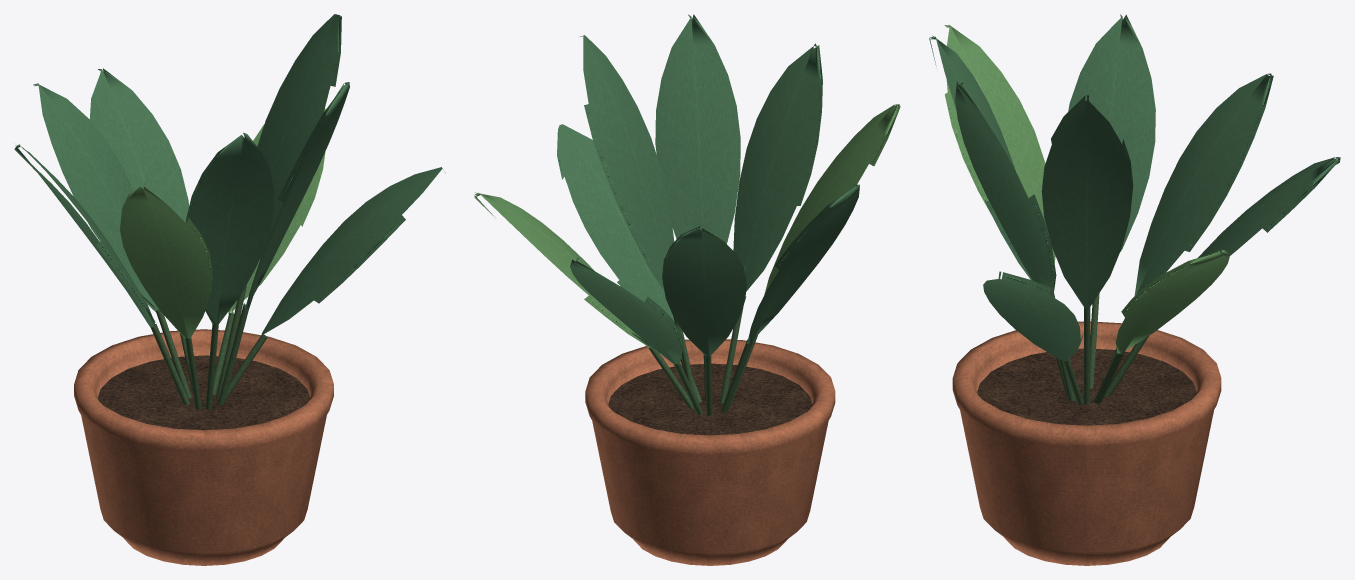
Rendered from plant_small.glb.
The picture shows the model from 3 angles, left to right: view 1: azimuth 30°, elevation 25°; view 2: azimuth 150°, elevation 25°; view 3: azimuth 270°, elevation 25°; orthographic projection. The views are drawn at different scales.
Visible parts, largest first — view 1: Pot, Leaf7, Soil, Leaf2, Leaf8, Leaf9, Leaf1, Leaf3, Leaf4, Leaf5, Leaf6, Stem4 (+4 smaller); view 2: Pot, Leaf4, Leaf7, Leaf1, Soil, Leaf8, Leaf9, Leaf5, Leaf2, Leaf3, Leaf6, Stem7 (+1 smaller); view 3: Pot, Leaf1, Leaf8, Soil, Leaf5, Leaf4, Leaf2, Leaf9, Leaf6, Leaf3, Leaf7, Stem1 (+1 smaller).
Part boxes in pixels (x1,y1,x2,y2): Pot: (74, 329, 333, 565); Leaf7: (186, 132, 274, 324); Soil: (98, 355, 309, 430); Leaf2: (120, 183, 212, 338); Leaf8: (33, 83, 158, 311); Leaf9: (261, 167, 445, 336); Leaf1: (257, 14, 341, 259); Leaf3: (89, 68, 188, 222); Leaf4: (243, 82, 349, 309); Leaf5: (14, 144, 156, 328); Leaf6: (228, 108, 325, 314); Stem4: (217, 306, 248, 404); Pot: (585, 339, 835, 565); Leaf4: (655, 14, 740, 243); Leaf7: (733, 43, 822, 291); Leaf1: (580, 35, 674, 290); Soil: (608, 363, 812, 435); Leaf8: (662, 225, 746, 355); Leaf9: (557, 124, 674, 321); Leaf5: (747, 184, 859, 343); Leaf2: (764, 104, 900, 294); Leaf3: (570, 257, 683, 364); Leaf6: (474, 192, 652, 349); Stem7: (720, 306, 743, 403); Pot: (952, 321, 1221, 565); Leaf1: (1041, 95, 1133, 308); Leaf8: (1134, 73, 1273, 295); Soil: (977, 348, 1196, 425); Leaf5: (1068, 14, 1155, 251); Leaf4: (955, 81, 1056, 296); Leaf2: (944, 25, 1055, 262); Leaf9: (983, 271, 1083, 361); Leaf6: (1113, 249, 1229, 354); Leaf3: (1198, 157, 1340, 257); Leaf7: (929, 35, 1031, 279); Stem1: (1084, 307, 1090, 404).
Size of the model in its own units: 0.3609 by 0.45 by 0.3343.
5 materials, 5 textured.
